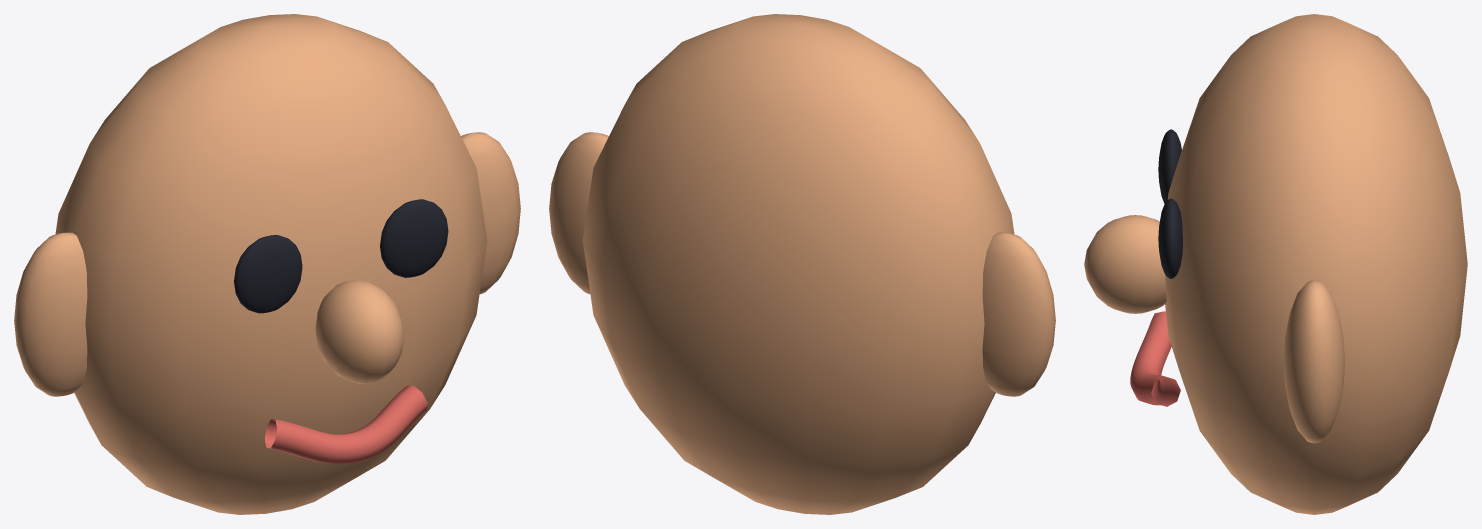
File: word-mouth.glb
3 renders of one model, left to right at view 1: azimuth 30°, elevation 25°; view 2: azimuth 150°, elevation 25°; view 3: azimuth 270°, elevation 25°, orthographic. The views are drawn at different scales.
Parts seen in each view (by area): view 1: head, ear, nose, mouth, ear.001, eye, eye.001; view 2: head, ear, ear.001; view 3: head, ear.001, nose, mouth, eye.001, eye.
Boxes of the visible parts, <box> form: head: <box>55,14,487,514</box>; ear: <box>14,232,87,396</box>; nose: <box>315,280,403,383</box>; mouth: <box>264,385,427,463</box>; ear.001: <box>461,132,520,294</box>; eye: <box>234,235,302,313</box>; eye.001: <box>380,199,448,277</box>; head: <box>582,14,1014,514</box>; ear: <box>982,232,1055,396</box>; ear.001: <box>549,132,608,294</box>; head: <box>1165,14,1467,514</box>; ear.001: <box>1283,280,1344,443</box>; nose: <box>1084,215,1166,313</box>; mouth: <box>1130,311,1180,406</box>; eye.001: <box>1158,198,1182,278</box>; eye: <box>1158,129,1181,203</box>.
Size of the model in its own units: 1.1 by 1 by 0.75.
